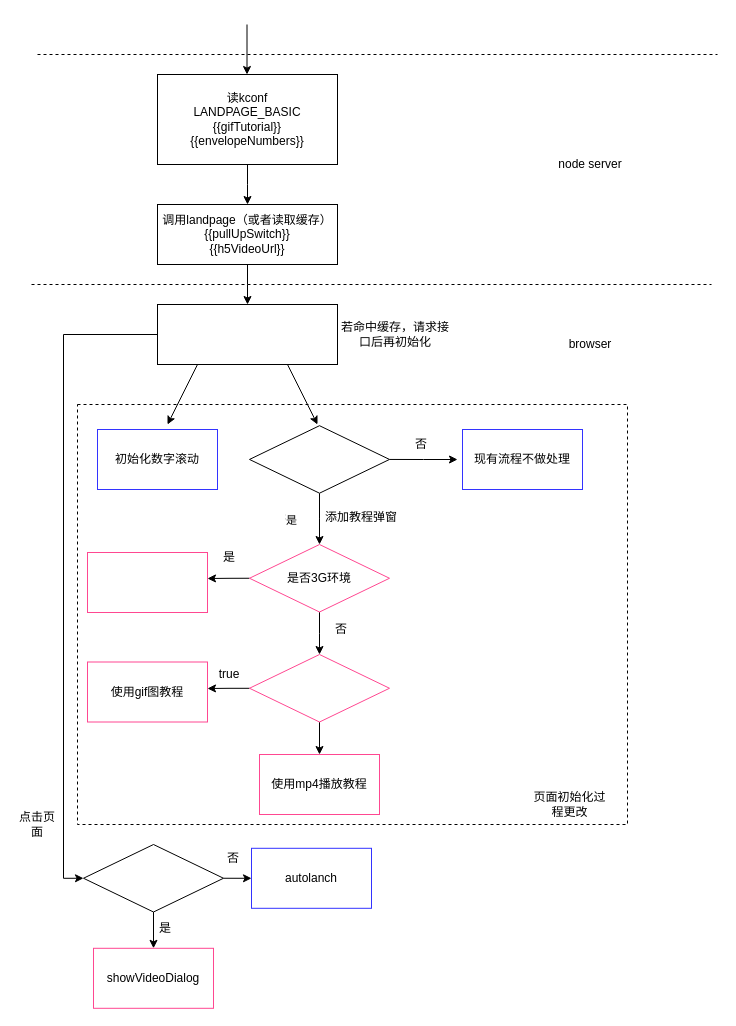
Image size: 736x1026. Some labels were removed from this diagram. Each missing label, with the centre of its shape:
gifTutorial: [319,688]
使用图片切换展示教程: [147,582]
微信环境&& pullUpSwitch: [153,878]
打开页面，初始化程序: [247,334]
是否微信环境 && pullUpSwitch: [319,459]
